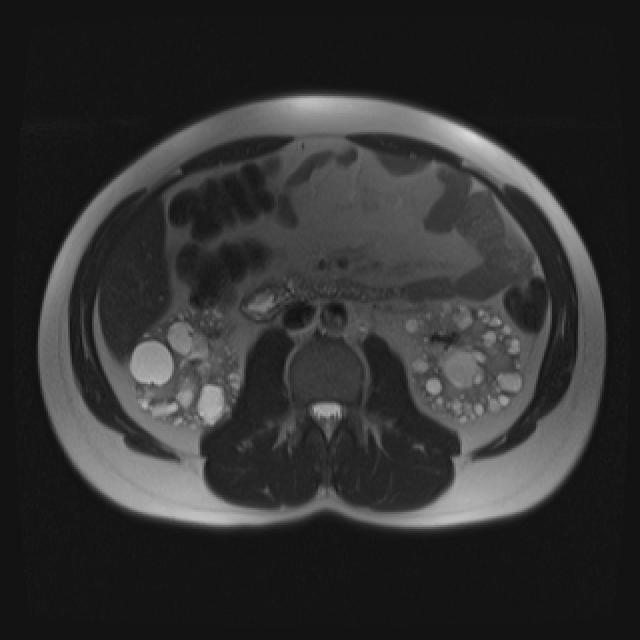sag: (126, 309, 241, 434)
sol: (404, 300, 525, 426)
